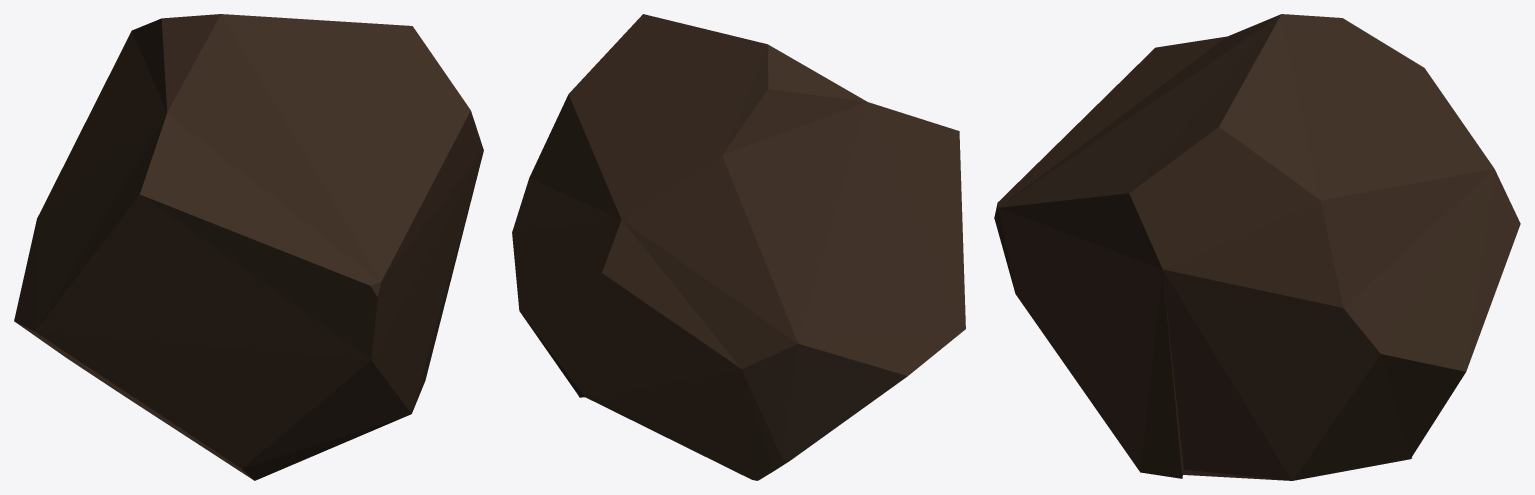
File: MO_Stone_1.fbx
3 views of the same model, side by side, from view 1: azimuth 30°, elevation 25°; view 2: azimuth 150°, elevation 25°; view 3: azimuth 270°, elevation 25° (orthographic). The views are drawn at different scales.
Parts seen in each view (by area): view 1: stone; view 2: stone; view 3: stone.
Boxes of the visible parts, <box> form: stone: <box>14,14,483,480</box>; stone: <box>512,14,965,480</box>; stone: <box>994,14,1520,480</box>.
Bounding box in the file's own units: 19.06 × 18.19 × 19.89.
